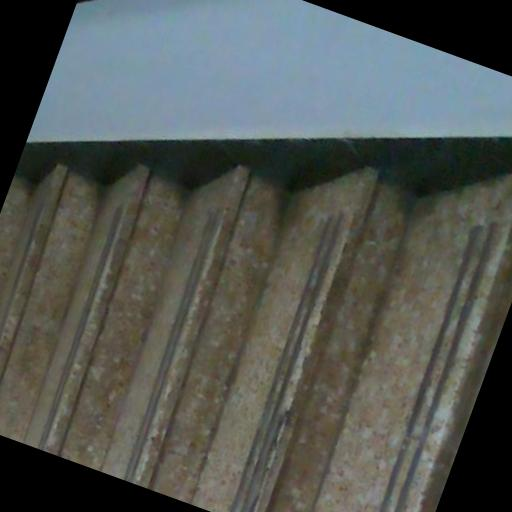stairs: (0, 167, 511, 511)
